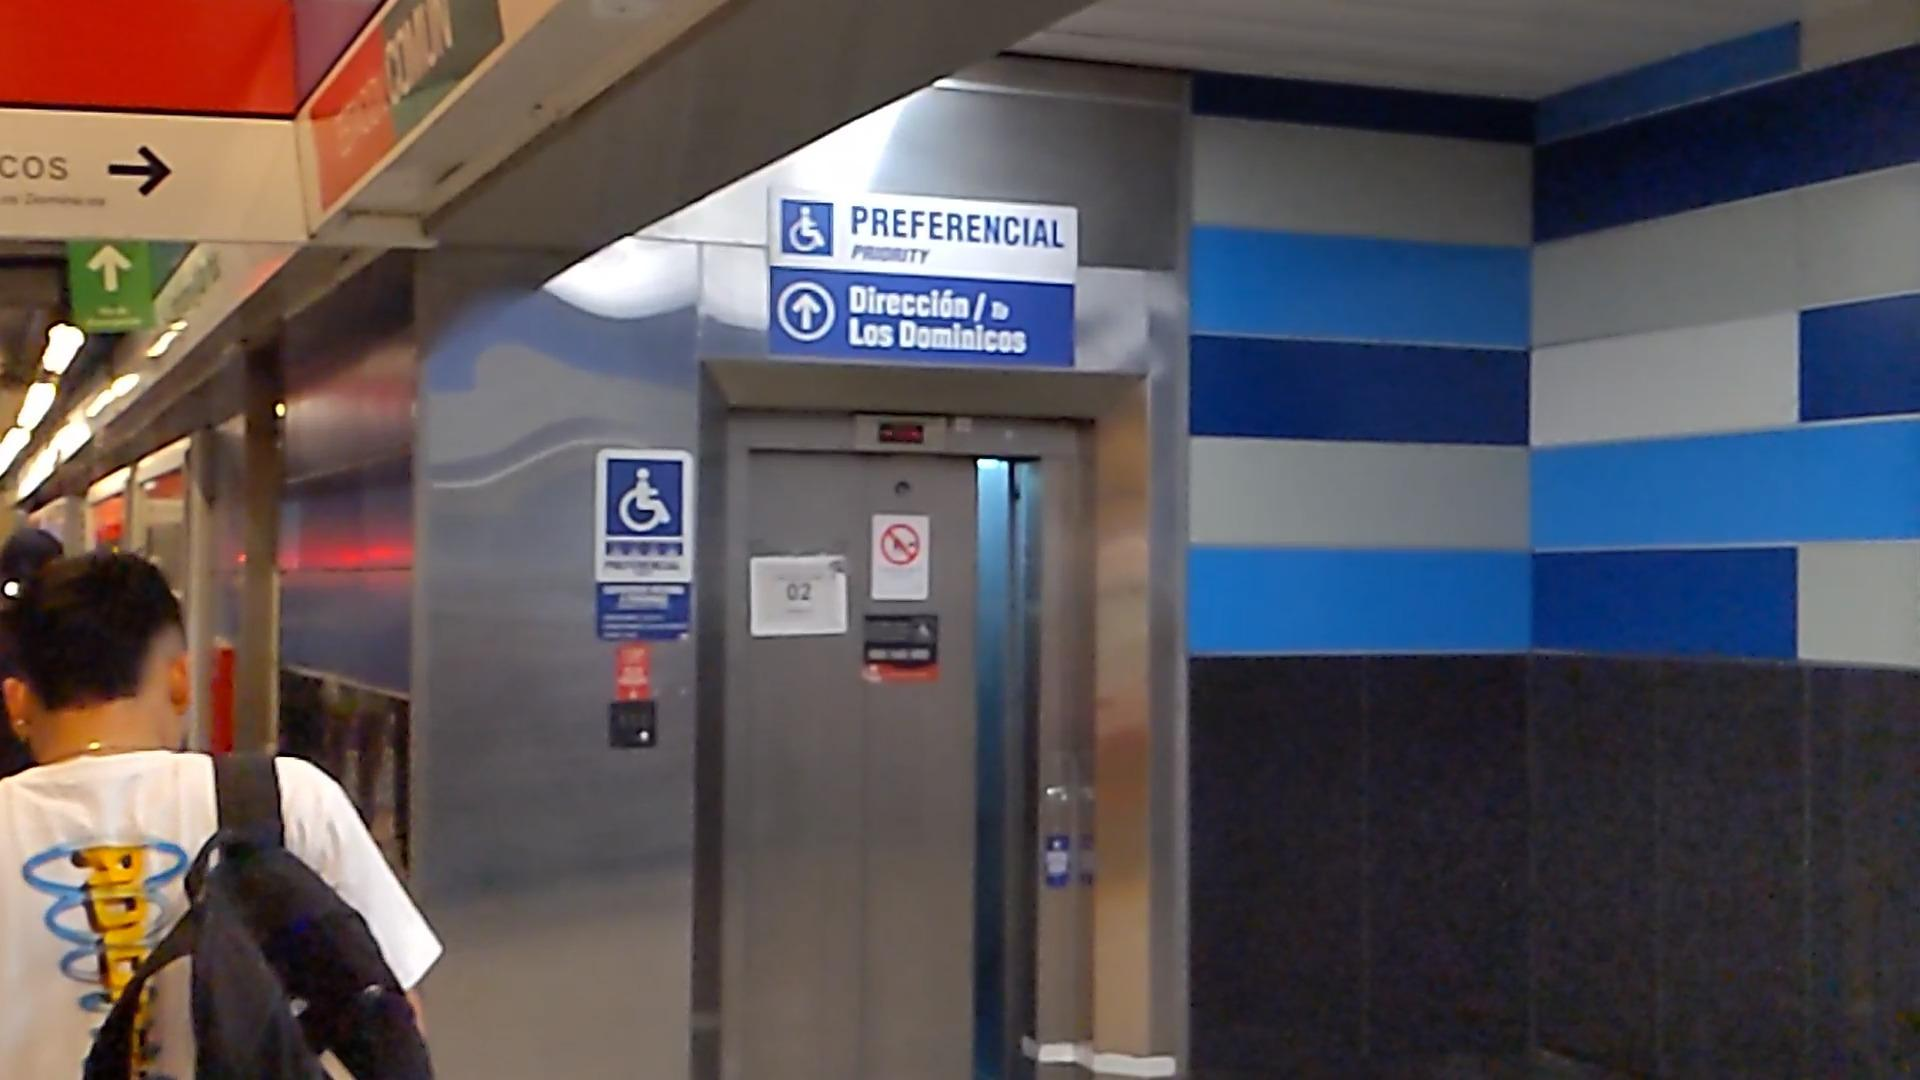emergency up arrow: (84, 240, 133, 297)
handicapped symbol: (618, 465, 671, 533), (787, 204, 827, 252)
right arrow: (104, 142, 175, 199)
up arrow: (790, 291, 823, 331)
